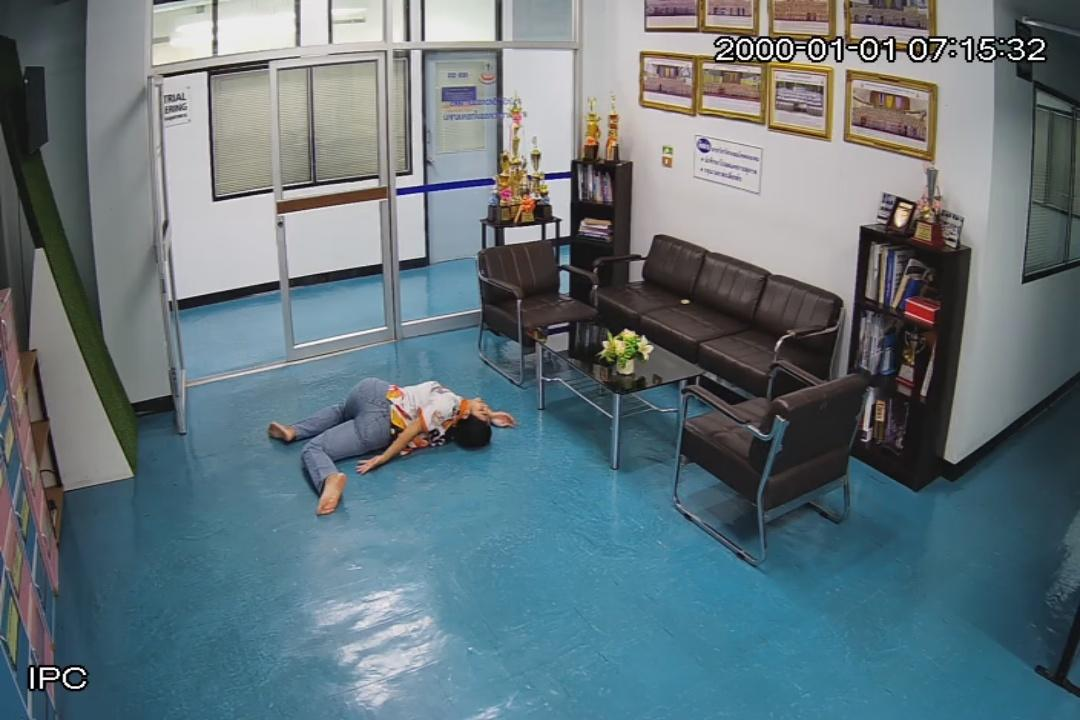fall: (266, 376, 520, 518)
